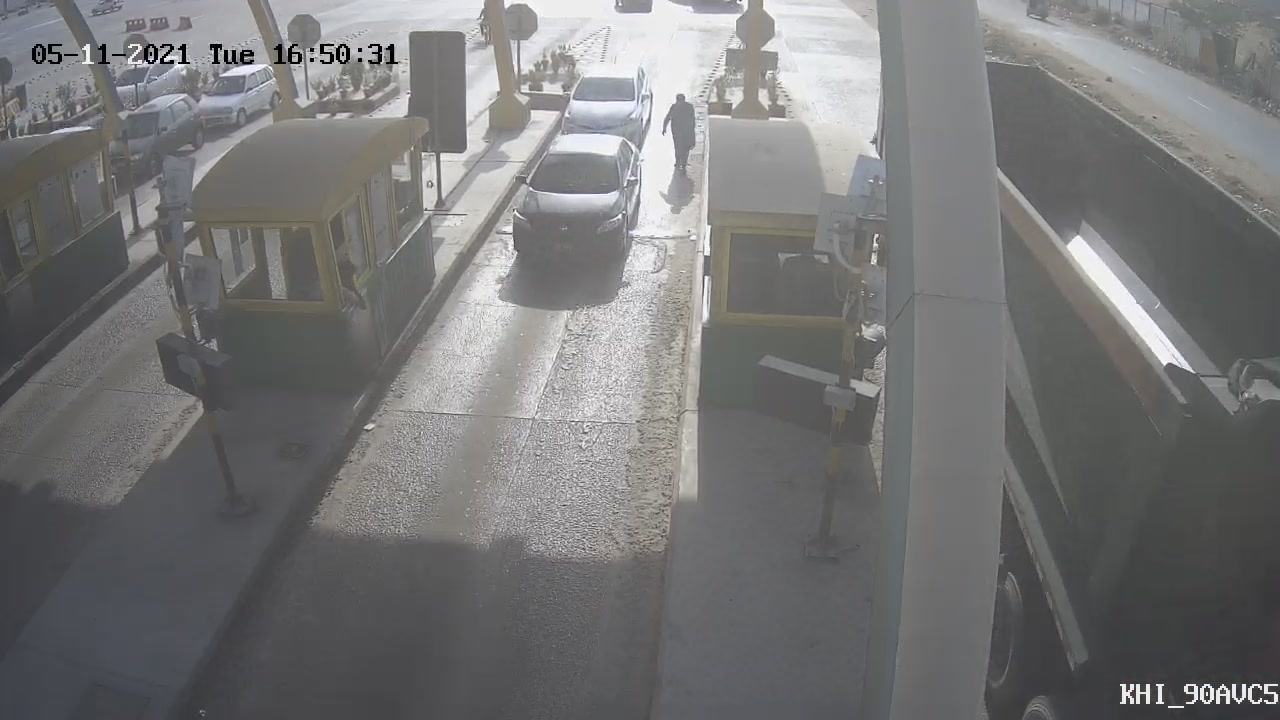F1: (487, 120, 659, 288), (537, 52, 668, 161)
